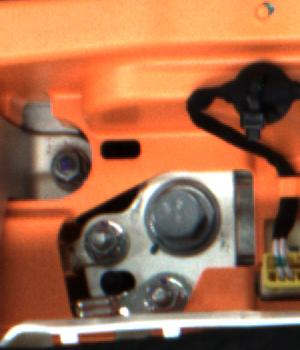nut_b: (140, 178, 218, 254)
